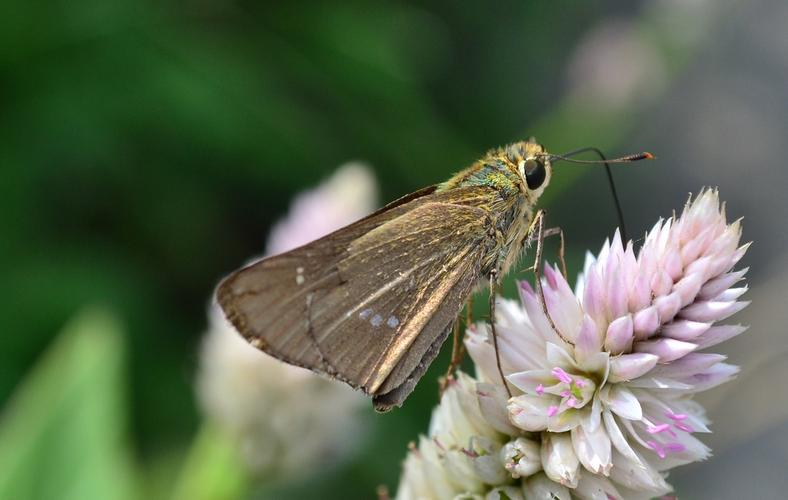Hesperiidae: (212, 121, 664, 417)
